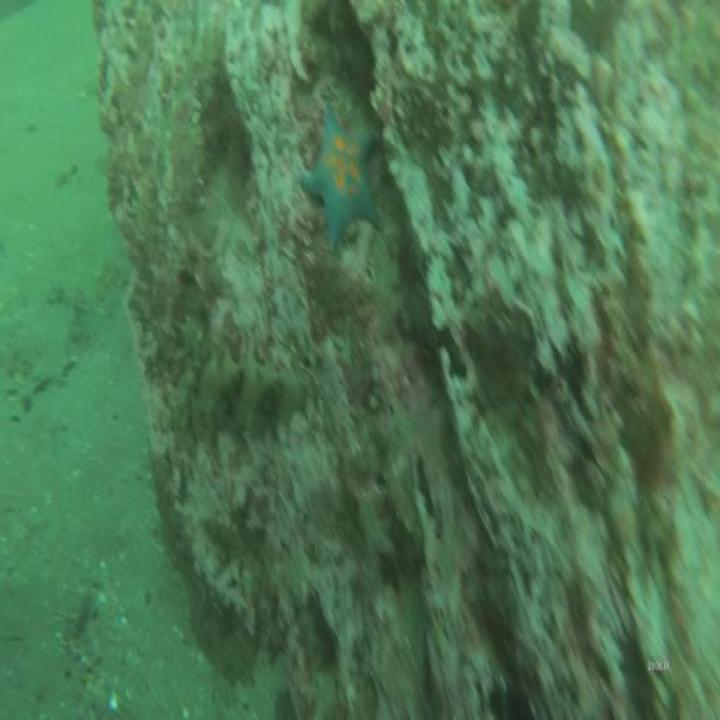holothurian: (168, 28, 224, 219), (190, 357, 310, 441), (166, 307, 203, 428)
starfish: (297, 96, 385, 256)
